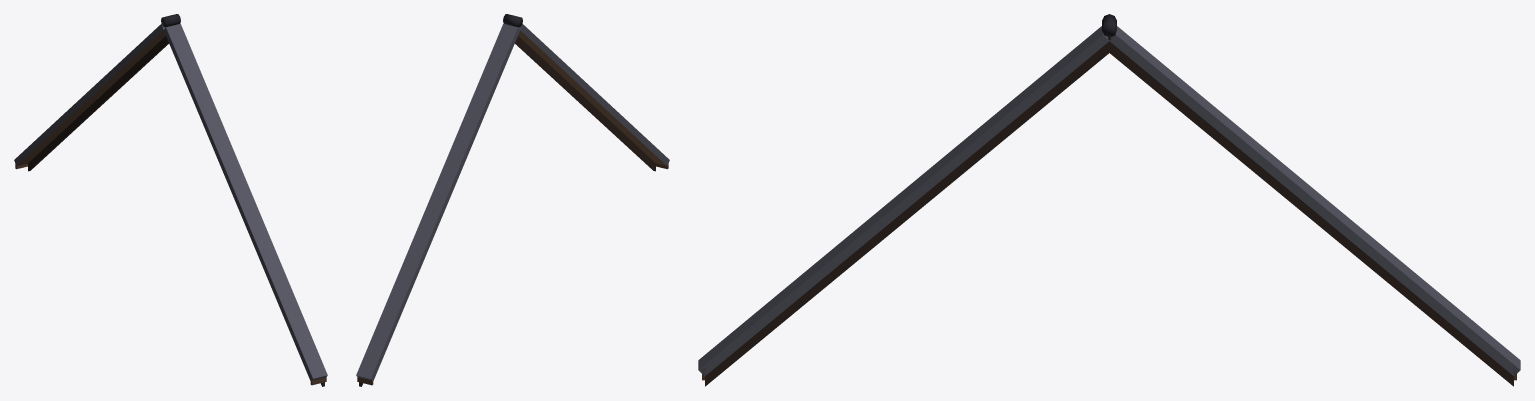
The model's file is kit_stone_slate_w7_end.glb.
The picture shows the model from 3 angles, left to right: view 1: azimuth 30°, elevation 25°; view 2: azimuth 150°, elevation 25°; view 3: azimuth 270°, elevation 25°; orthographic projection. The views are drawn at different scales.
Parts seen in each view (by area): view 1: kit_stone_slate_w7_end; view 2: kit_stone_slate_w7_end; view 3: kit_stone_slate_w7_end.
Part boxes in pixels (x1,y1,x2,y2): kit_stone_slate_w7_end: (14,14,327,386); kit_stone_slate_w7_end: (356,14,669,386); kit_stone_slate_w7_end: (698,14,1520,386).
Size of the model in its own units: 0.22 by 3.77 by 7.72.
